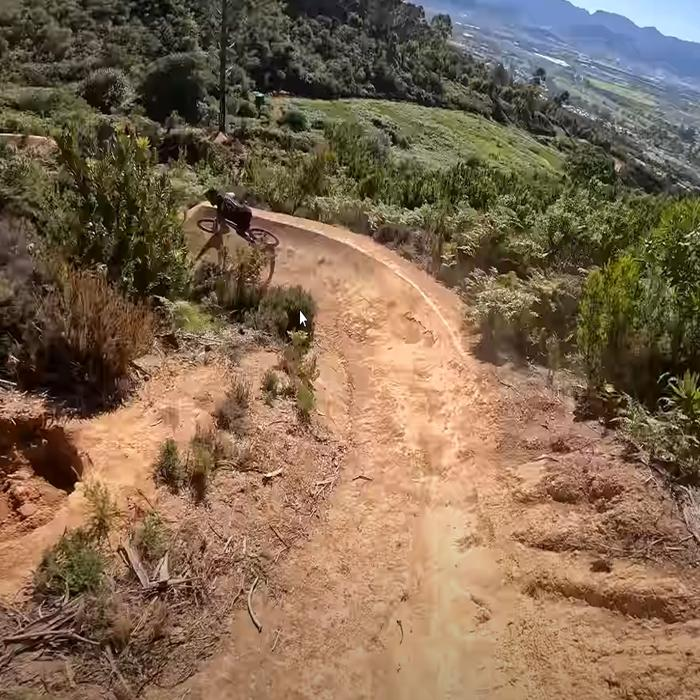jump: (177, 198, 485, 396)
